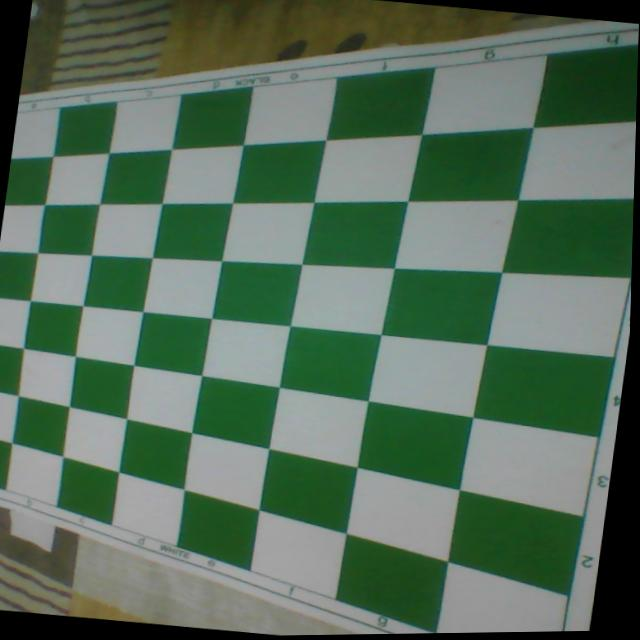square: (440, 488, 586, 596), (454, 415, 602, 517), (467, 342, 618, 438), (484, 263, 632, 359), (498, 184, 634, 284), (420, 42, 550, 142), (515, 105, 637, 209), (405, 115, 536, 211), (341, 466, 466, 565), (329, 535, 452, 632), (531, 25, 639, 135), (352, 398, 476, 493), (395, 187, 525, 277), (379, 260, 507, 348), (364, 333, 489, 418), (321, 55, 436, 147), (433, 561, 575, 633), (246, 510, 354, 600), (311, 124, 422, 210), (252, 447, 359, 535), (300, 188, 411, 272), (265, 384, 370, 468), (288, 256, 397, 335), (243, 66, 344, 150), (277, 323, 384, 402), (232, 130, 332, 209), (177, 432, 275, 512), (219, 191, 320, 268), (170, 491, 263, 569), (188, 373, 282, 449), (209, 253, 305, 327), (198, 317, 294, 389), (168, 78, 256, 154), (104, 471, 192, 547), (158, 134, 246, 210), (139, 250, 227, 319), (121, 361, 205, 433), (149, 193, 233, 263), (114, 417, 193, 489), (106, 85, 188, 154), (130, 309, 212, 375), (89, 195, 170, 261), (58, 403, 134, 471), (98, 142, 174, 208), (71, 303, 148, 366), (82, 248, 158, 311), (51, 457, 122, 524), (1, 443, 70, 508), (65, 354, 136, 417), (44, 145, 115, 208), (50, 97, 120, 160), (28, 245, 95, 306), (7, 395, 71, 458), (15, 346, 81, 407), (37, 197, 100, 256), (19, 299, 83, 356), (10, 102, 63, 163), (5, 153, 51, 208), (0, 204, 46, 252), (0, 248, 37, 300), (0, 295, 32, 348), (0, 341, 24, 395), (0, 387, 22, 443), (0, 433, 11, 489)
